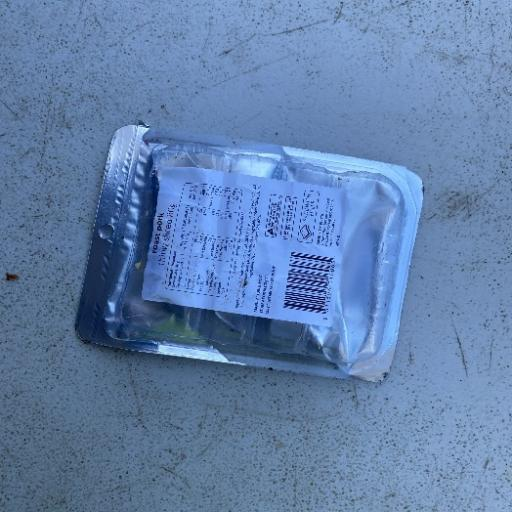Plastic: (72, 120, 426, 385)
